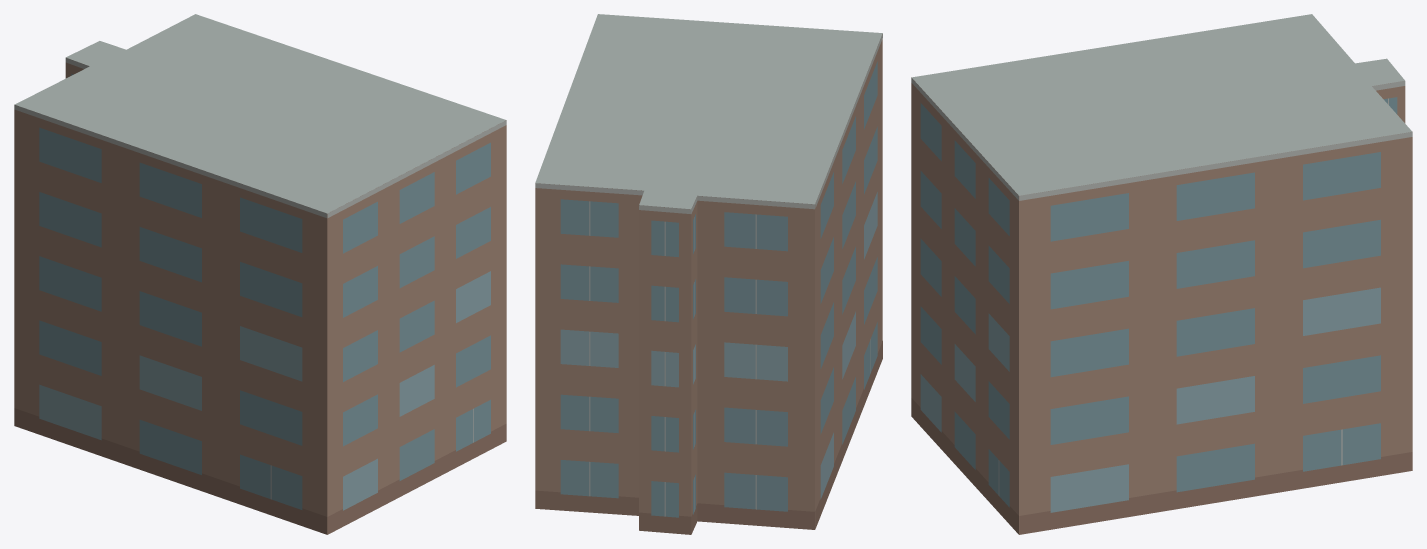
The model's file is survey-upis-32860400.glb.
3 views of the same model, side by side, from view 1: azimuth 30°, elevation 25°; view 2: azimuth 150°, elevation 25°; view 3: azimuth 270°, elevation 25° (orthographic). The views are drawn at different scales.
Parts seen in each view (by area): view 1: survey-upis-32860400.tmp; view 2: survey-upis-32860400.tmp; view 3: survey-upis-32860400.tmp.
Boxes of the visible parts, left/top/right/bottom form: survey-upis-32860400.tmp: left=14, top=14, right=506, bottom=534; survey-upis-32860400.tmp: left=535, top=14, right=882, bottom=534; survey-upis-32860400.tmp: left=911, top=14, right=1412, bottom=534.
Bounding box in the file's own units: 18.53 × 16.1 × 21.57.
